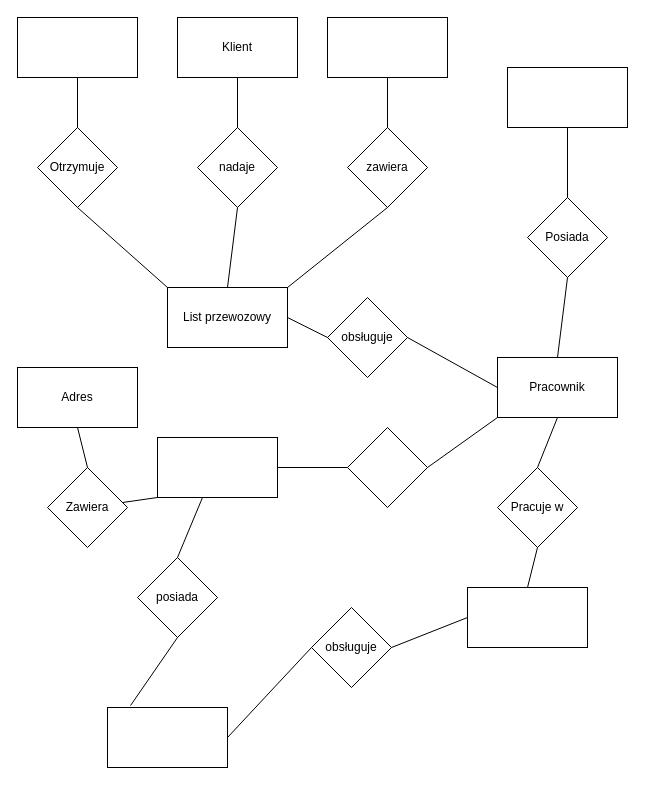
Some shapes in this 645 by 785 pixel diagram are drawn without their labels. The centre of each missing label's shape, as x and y in pixels:
"Auto dostawcze" goes at point 567,97.
"Jest przypisany" goes at point 387,467.
"magazyn" goes at point 527,617.
"Obszar działania" goes at point 217,467.
"Odbiorca" goes at point 77,47.
"Paczka" goes at point 387,47.
"Region" goes at point 167,737.
